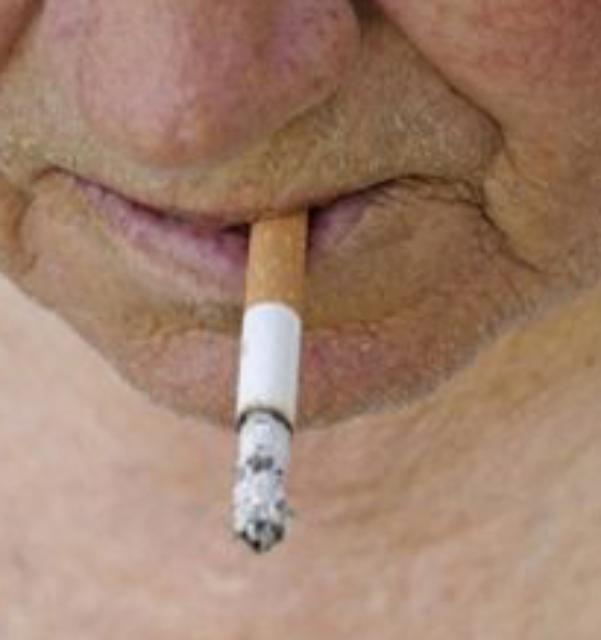Cigarette: (230, 212, 302, 558)
